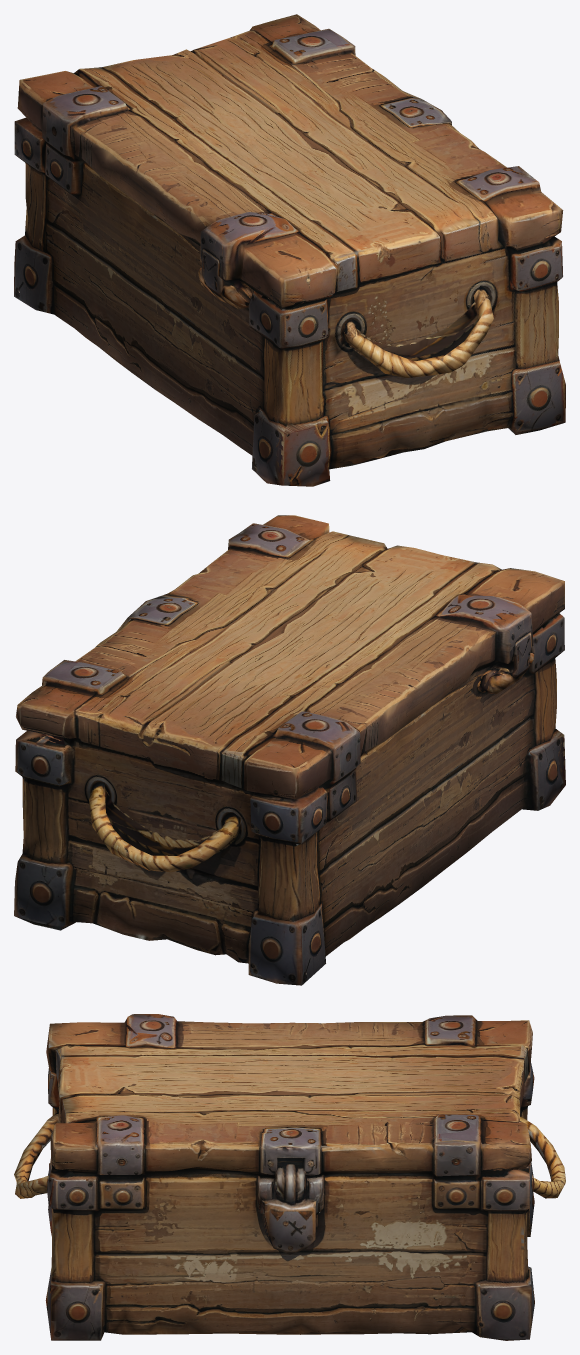
File: Loot_WoodCrate_Closed.fbx
3 renders of one model, top to bottom at view 1: azimuth 30°, elevation 25°; view 2: azimuth 150°, elevation 25°; view 3: azimuth 270°, elevation 25°, orthographic. The views are drawn at different scales.
Parts seen in each view (by area): view 1: texture_mapping; view 2: texture_mapping; view 3: texture_mapping.
Part boxes in pixels (box(x1,y1,x2,y2)): texture_mapping: box(14, 14, 565, 486); texture_mapping: box(14, 515, 565, 985); texture_mapping: box(14, 1014, 565, 1340).
Size of the model in its own units: 0.6161 by 0.9963 by 0.4093.
1 material, 1 textured.
